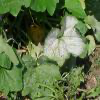Squash Powdery mildew leaf: (44, 14, 91, 64)
